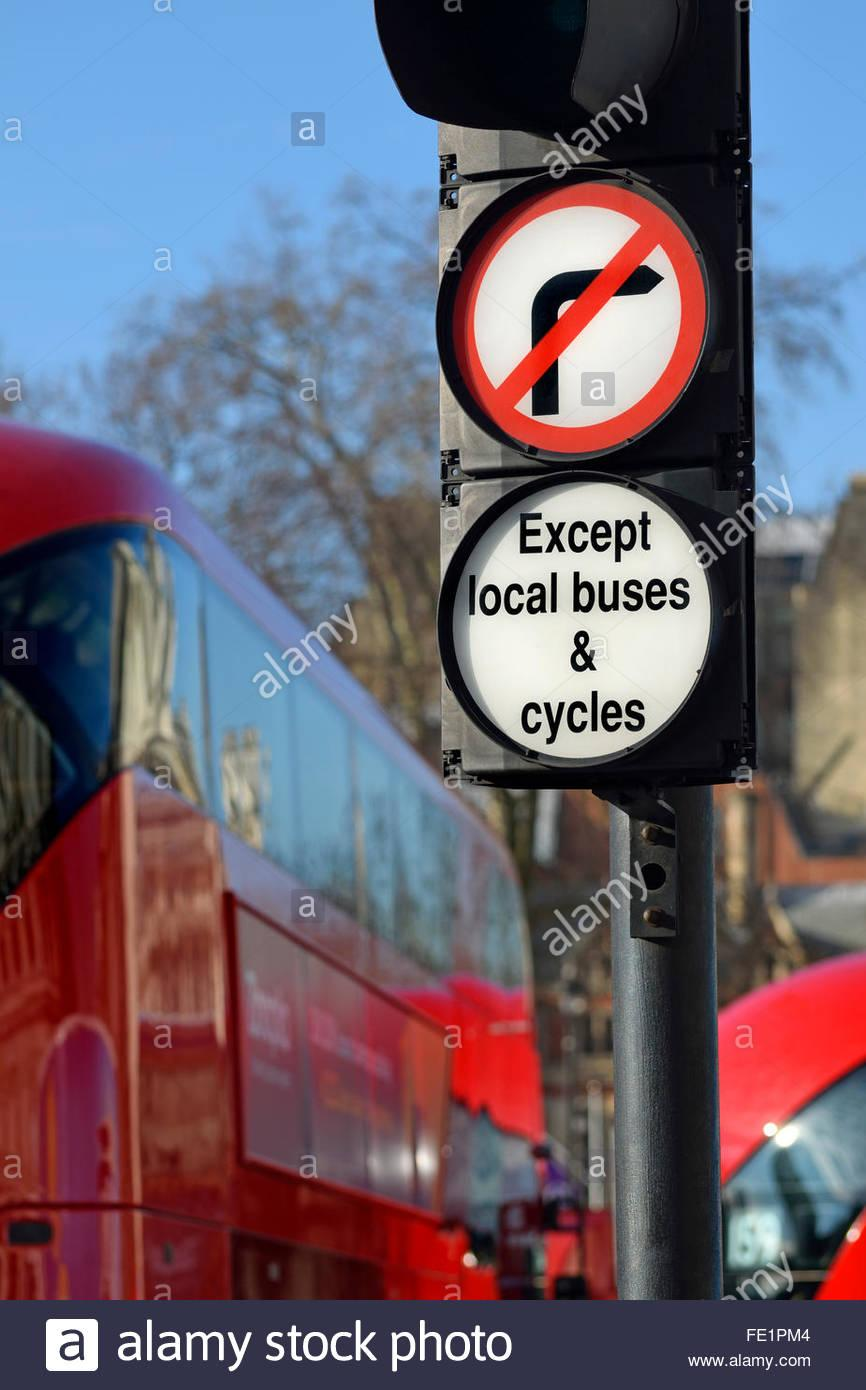no_right_turn: (439, 179, 706, 454)
